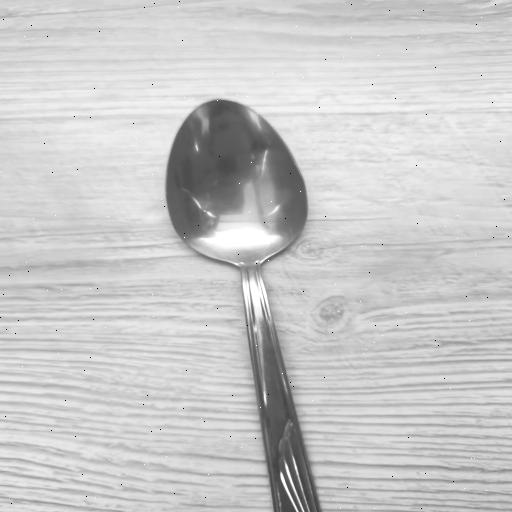spoon: (160, 97, 326, 512)
